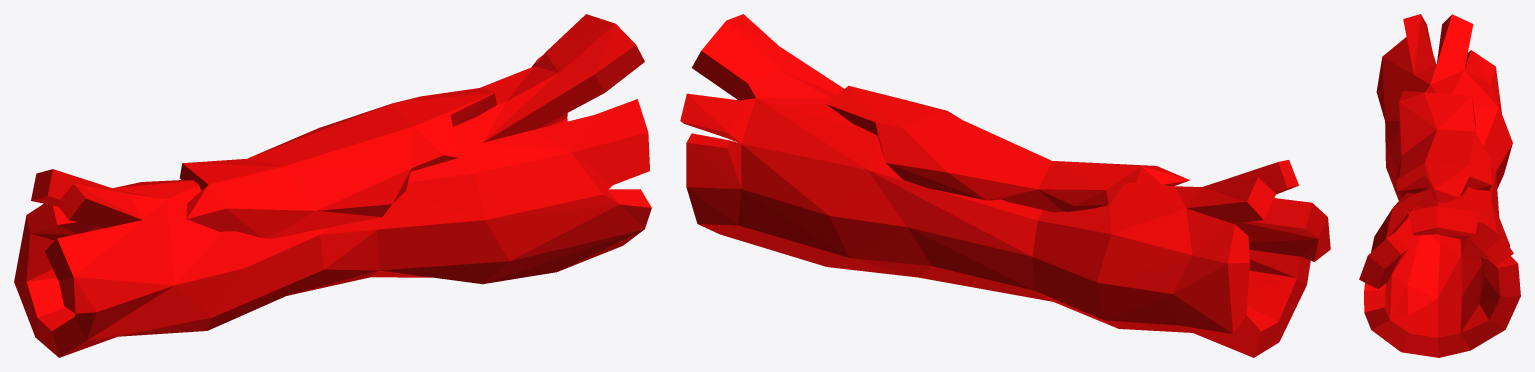
File: SM_FallenTree_02.fbx
3 renders of one model, left to right at view 1: azimuth 30°, elevation 25°; view 2: azimuth 150°, elevation 25°; view 3: azimuth 270°, elevation 25°, orthographic. The views are drawn at different scales.
Parts seen in each view (by area): view 1: SM_FallenTree_02; view 2: SM_FallenTree_02; view 3: SM_FallenTree_02.
Boxes of the visible parts, x1,y1,x2,y2 form: SM_FallenTree_02: (14,14,651,357); SM_FallenTree_02: (680,14,1330,357); SM_FallenTree_02: (1359,14,1520,357).
Bounding box in the file's own units: 3.79 × 1.33 × 1.18.
